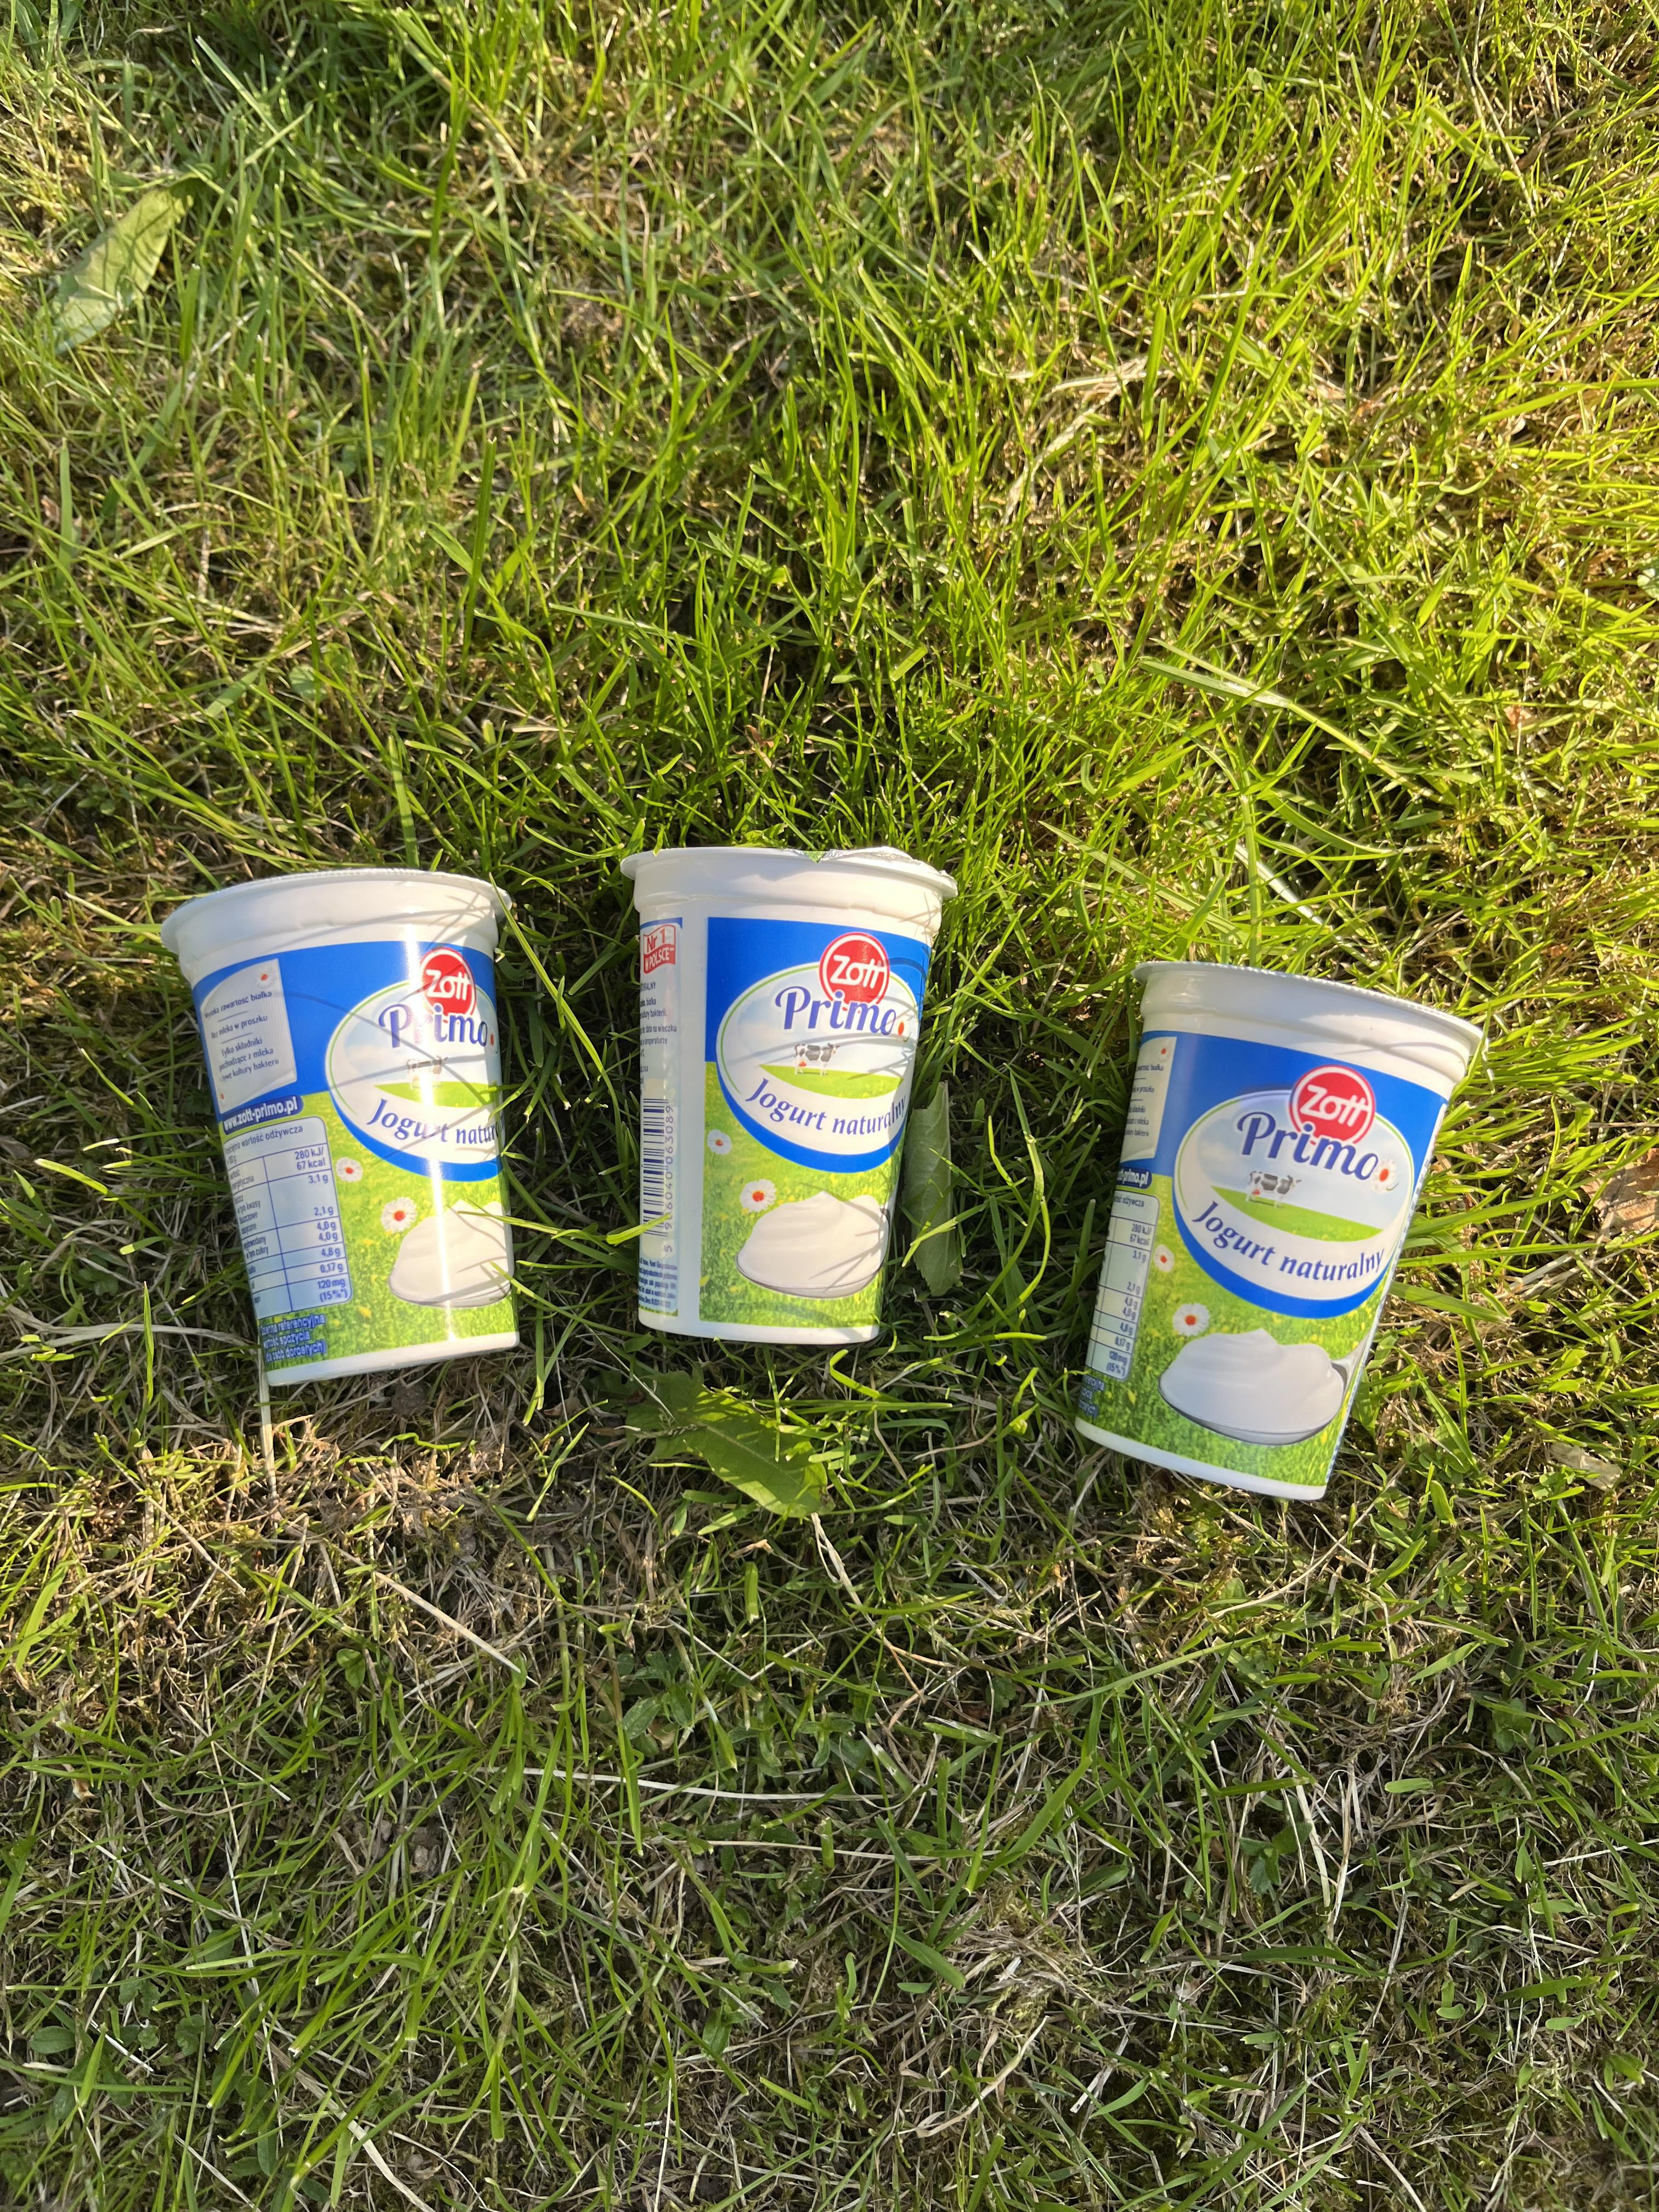Yogurt: (213, 874, 516, 1369), (1134, 967, 1392, 1493), (638, 845, 890, 1346)
